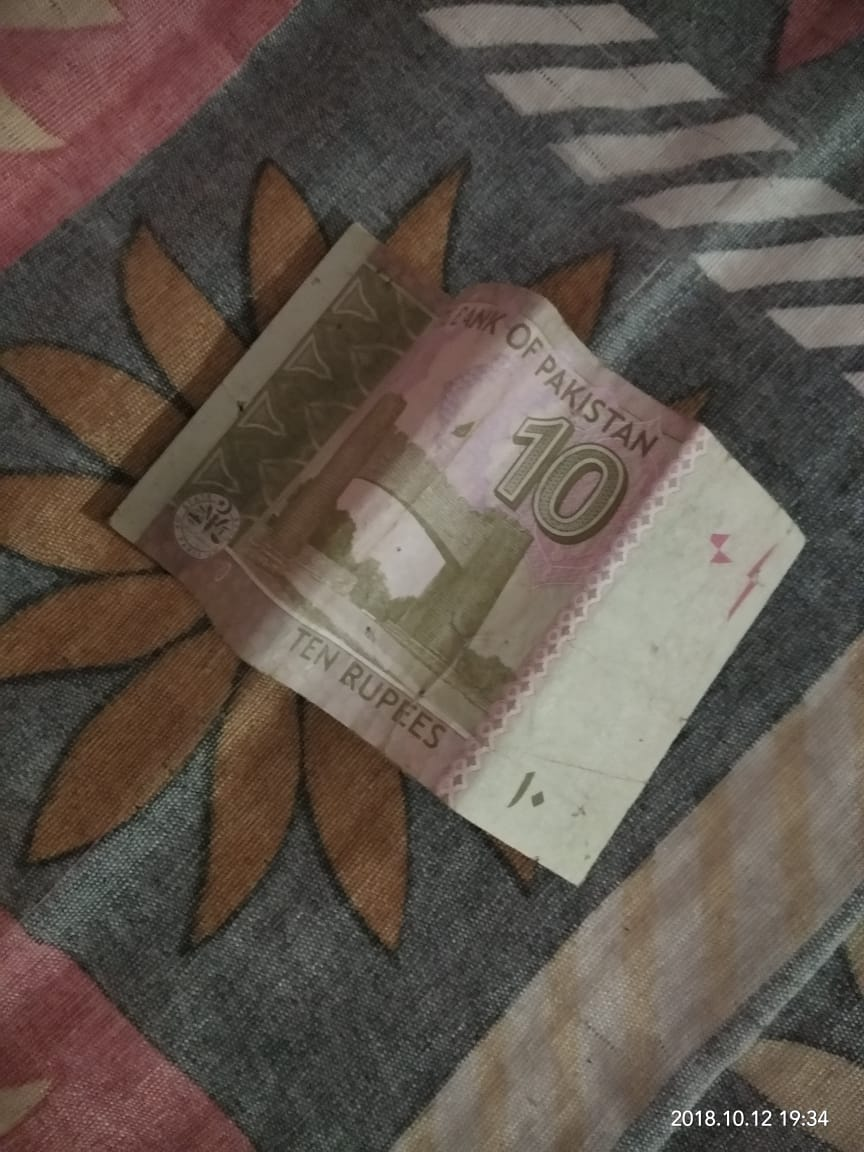10 rupee: (96, 208, 809, 880)
